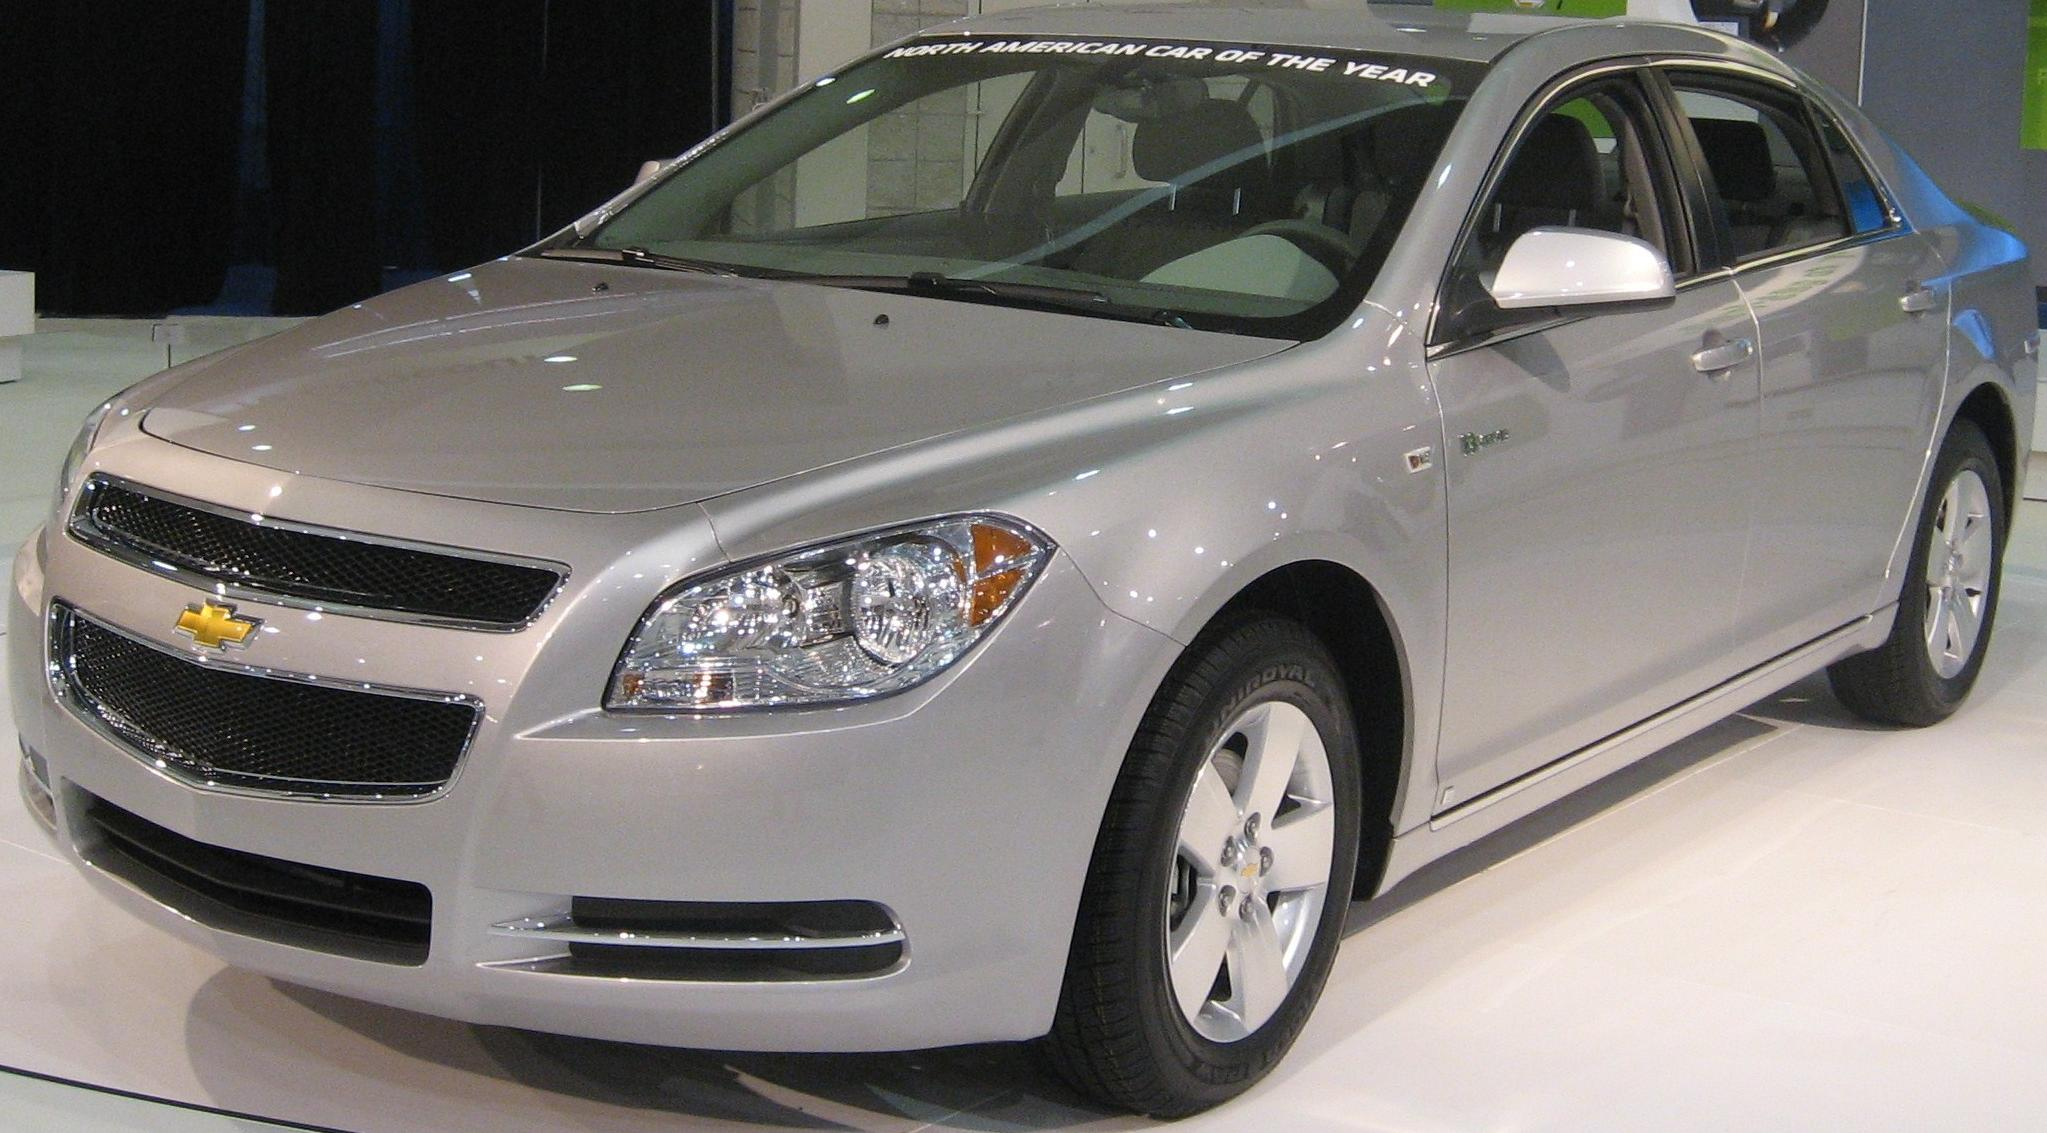front_view: (1, 375, 1074, 1058)
headlight: (585, 491, 1077, 751)
side_glass: (1455, 47, 1926, 381)
